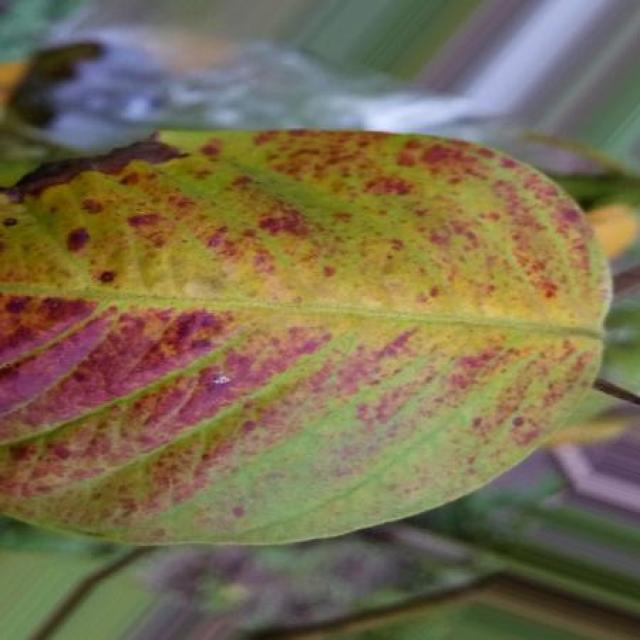Red Rust: (0, 131, 610, 545)
